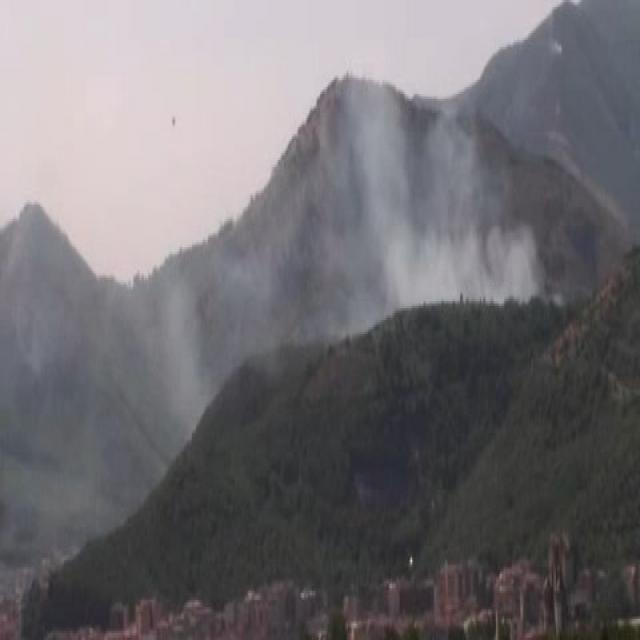smoke: (323, 97, 534, 310)
